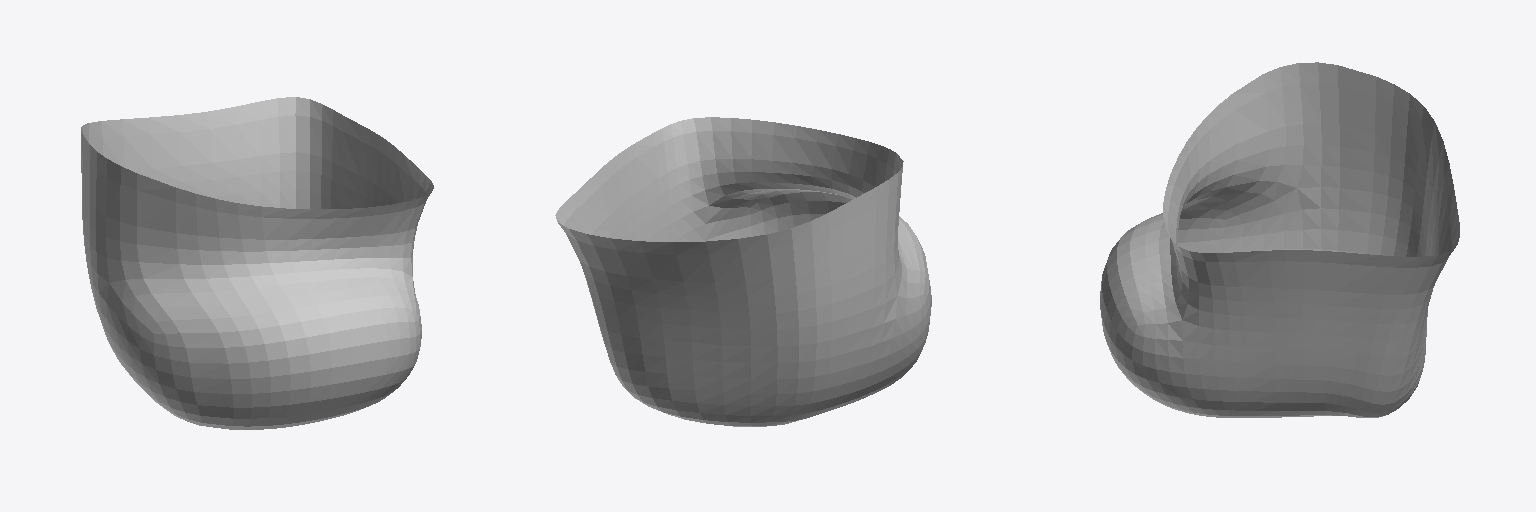
The model's file is pierDerMel.obj.
3 renders of one model, left to right at view 1: azimuth 30°, elevation 25°; view 2: azimuth 150°, elevation 25°; view 3: azimuth 270°, elevation 25°, orthographic.
Size of the model in its own units: 0.6098 by 0.5192 by 0.6782.